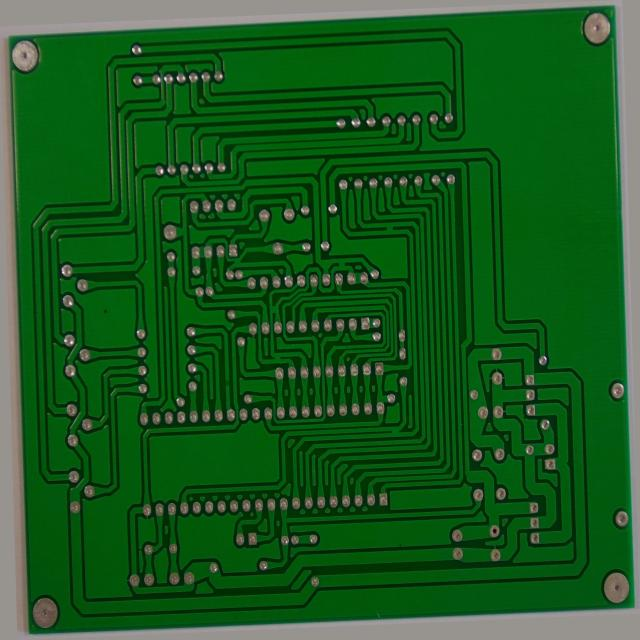short: (269, 349, 283, 366), (336, 254, 351, 269), (387, 432, 402, 447), (388, 220, 402, 236), (267, 299, 281, 314)
